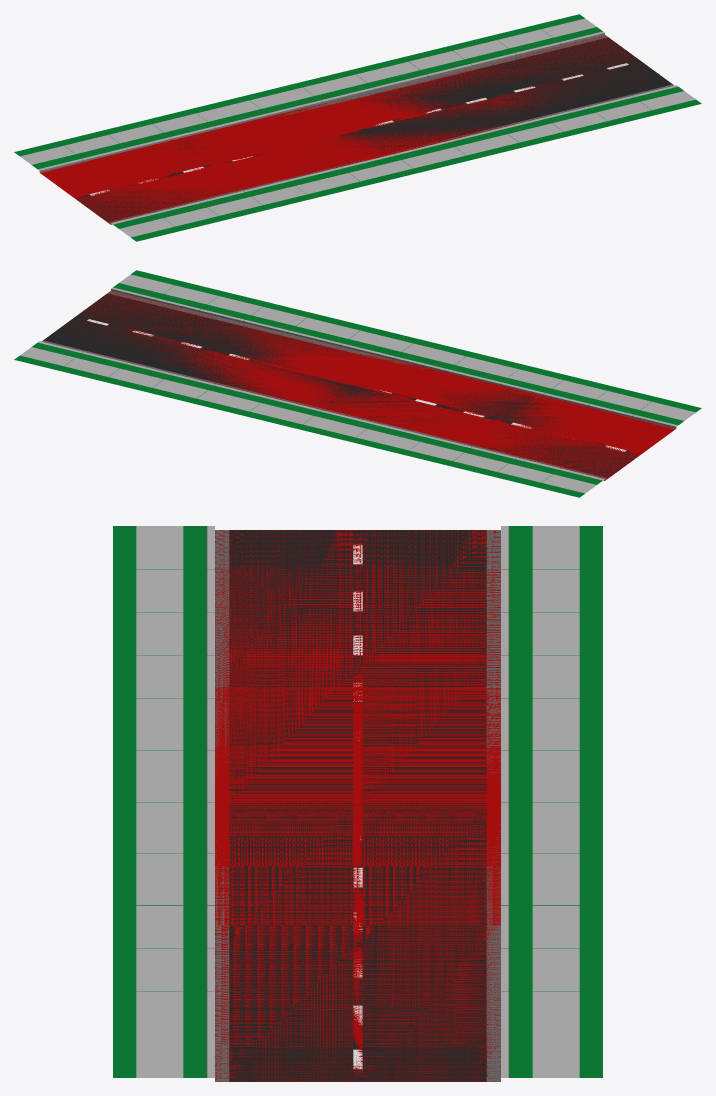
Rendered from Road-64-H.fbx.
3 renders of one model, top to bottom at view 1: azimuth 30°, elevation 25°; view 2: azimuth 150°, elevation 25°; view 3: azimuth 270°, elevation 25°, orthographic. The views are drawn at different scales.
Visible parts, largest first — view 1: Sides, Coolider-Road, Road; view 2: Coolider-Road, Sides, Road; view 3: Road, Coolider-Road, Sides.
Boxes of the visible parts, left/top/right/bottom form: Sides: left=14, top=14, right=701, bottom=241; Coolider-Road: left=40, top=35, right=657, bottom=224; Road: left=40, top=35, right=673, bottom=224; Coolider-Road: left=64, top=291, right=675, bottom=479; Sides: left=14, top=270, right=701, bottom=497; Road: left=42, top=291, right=675, bottom=480; Road: left=215, top=530, right=500, bottom=1081; Coolider-Road: left=215, top=530, right=500, bottom=1081; Sides: left=113, top=526, right=602, bottom=1077.
Size of what is drawn, in the model's own units: 64 by 0.2 by 24.
